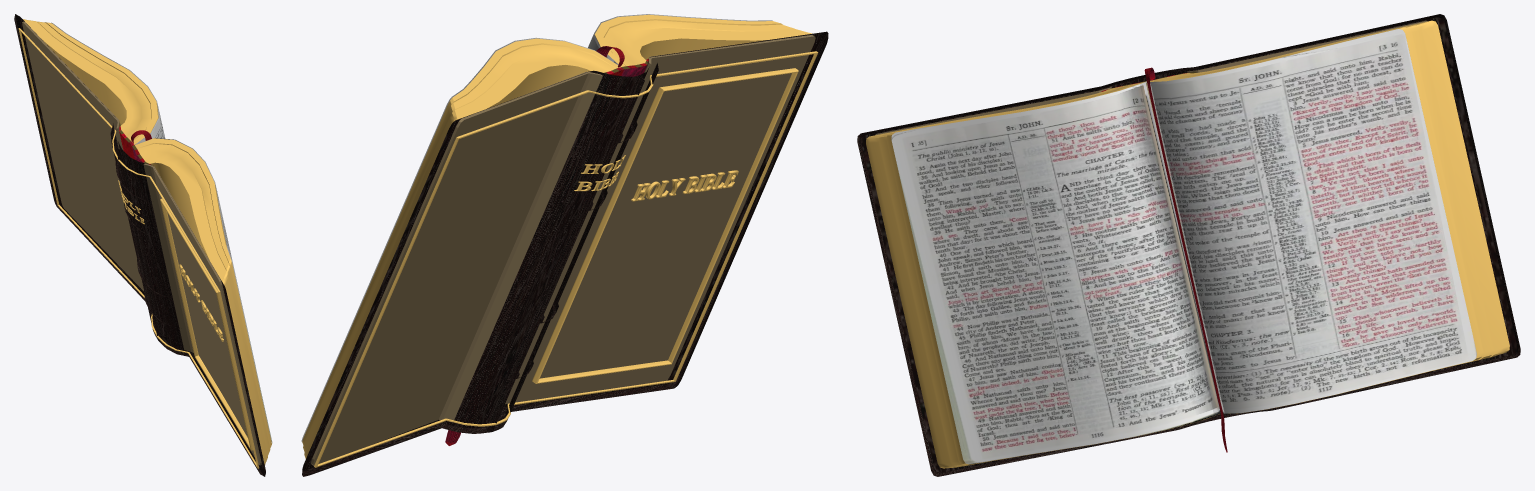
Rendered from open_bible.glb.
3 views of the same model, side by side, from view 1: azimuth 30°, elevation 25°; view 2: azimuth 150°, elevation 25°; view 3: azimuth 270°, elevation 25° (orthographic). The views are drawn at different scales.
Parts seen in each view (by area): view 1: empastado 2.001_empastado_0, golden frame 1.001_gold paint_0, hard cover.001_Black Leather_0, text pages.1_text 1_0, empastado 1.001_empastado 1_0, text pages.2_text 2_0; view 2: empastado 2.001_empastado_0, golden frame 1.001_gold paint_0, hard cover.001_Black Leather_0, text pages.2_text 2_0, empastado 1.001_empastado 1_0; view 3: text pages.1_text 1_0, text pages.2_text 2_0, golden frame 1.001_gold paint_0, hard cover.001_Black Leather_0, empastado 2.001_empastado_0, empastado 1.001_empastado 1_0.
Part boxes in pixels (x1,y1,x2,y2): empastado 2.001_empastado_0: [22, 21, 261, 465]; golden frame 1.001_gold paint_0: [18, 19, 271, 468]; hard cover.001_Black Leather_0: [14, 14, 265, 476]; text pages.1_text 1_0: [135, 138, 272, 443]; empastado 1.001_empastado 1_0: [119, 126, 151, 164]; text pages.2_text 2_0: [51, 22, 165, 144]; empastado 2.001_empastado_0: [311, 35, 815, 465]; golden frame 1.001_gold paint_0: [302, 14, 818, 467]; hard cover.001_Black Leather_0: [302, 31, 828, 476]; text pages.2_text 2_0: [301, 37, 617, 441]; empastado 1.001_empastado 1_0: [445, 46, 648, 445]; text pages.1_text 1_0: [891, 81, 1220, 464]; text pages.2_text 2_0: [1150, 29, 1476, 413]; golden frame 1.001_gold paint_0: [866, 20, 1509, 468]; hard cover.001_Black Leather_0: [857, 14, 1520, 476]; empastado 2.001_empastado_0: [875, 20, 1427, 135]; empastado 1.001_empastado 1_0: [1101, 67, 1227, 452].
Bounding box in the file's own units: 0.6841 × 1.59 × 2.22.
7 materials, 4 textured.
